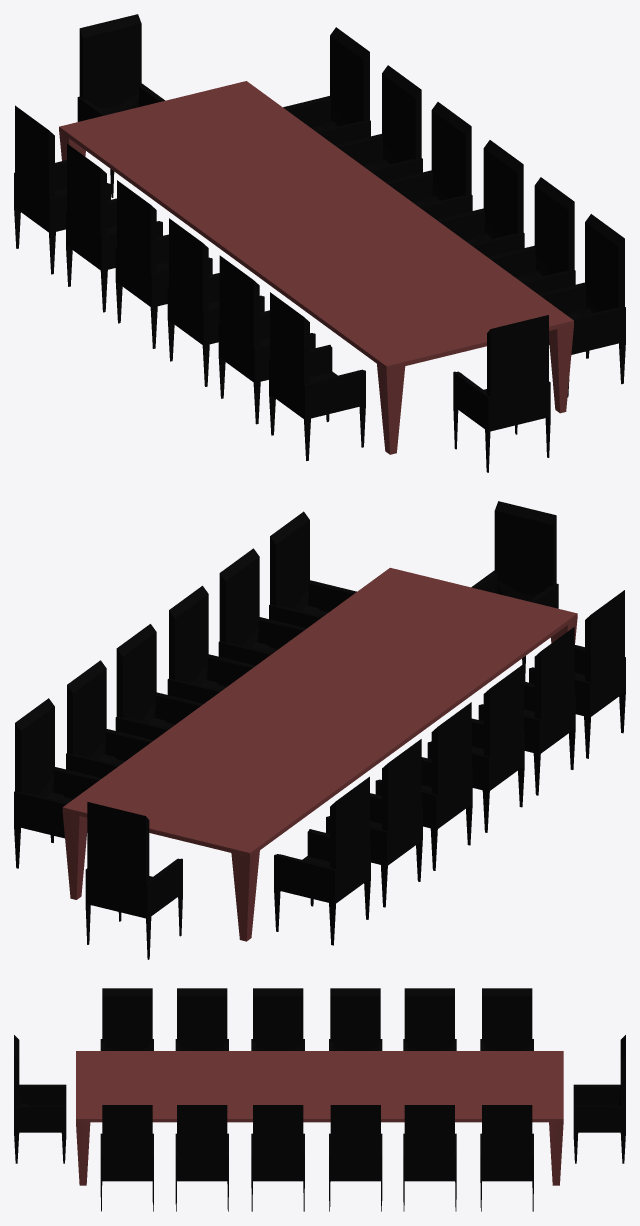
The model's file is TableWithChairs.fbx.
3 views of the same model, one above another, from view 1: azimuth 30°, elevation 25°; view 2: azimuth 150°, elevation 25°; view 3: azimuth 270°, elevation 25° (orthographic). The views are drawn at different scales.
Visible parts, largest first — view 1: pCube9, pCube12, pCube13, pCube24, pCube19, pCube16, pCube18, pCube15, pCube14, pCube17, pCube25, pCube23 (+3 smaller); view 2: pCube9, pCube19, pCube18, pCube21, pCube12, pCube15, pCube14, pCube17, pCube16, pCube13, pCube22, pCube23 (+3 smaller); view 3: pCube9, pCube20, pCube23, pCube21, pCube22, pCube25, pCube24, pCube13, pCube14, pCube15, pCube16, pCube17 (+3 smaller).
Boxes of the visible parts, left/top/right/bottom form: pCube9: left=59, top=81, right=573, bottom=454; pCube12: left=453, top=315, right=550, bottom=472; pCube13: left=269, top=292, right=365, bottom=460; pCube24: left=538, top=214, right=625, bottom=397; pCube19: left=77, top=14, right=164, bottom=197; pCube16: left=115, top=180, right=212, bottom=348; pCube18: left=14, top=105, right=110, bottom=274; pCube15: left=167, top=218, right=264, bottom=386; pCube14: left=218, top=255, right=315, bottom=424; pCube17: left=66, top=143, right=162, bottom=312; pCube25: left=384, top=102, right=472, bottom=219; pCube23: left=437, top=140, right=524, bottom=256; pCube9: left=62, top=567, right=577, bottom=941; pCube19: left=85, top=802, right=182, bottom=959; pCube18: left=274, top=776, right=370, bottom=945; pCube21: left=14, top=698, right=101, bottom=868; pCube12: left=471, top=501, right=558, bottom=681; pCube15: left=427, top=664, right=524, bottom=832; pCube14: left=478, top=627, right=575, bottom=795; pCube17: left=326, top=739, right=422, bottom=907; pCube16: left=375, top=702, right=472, bottom=870; pCube13: left=529, top=590, right=625, bottom=758; pCube22: left=218, top=548, right=306, bottom=665; pCube23: left=167, top=585, right=255, bottom=703; pCube9: left=76, top=1051, right=563, bottom=1185; pCube20: left=403, top=1105, right=456, bottom=1211; pCube23: left=251, top=1105, right=304, bottom=1211; pCube21: left=480, top=1105, right=533, bottom=1211; pCube22: left=175, top=1105, right=228, bottom=1211; pCube25: left=329, top=1105, right=382, bottom=1211; pCube24: left=100, top=1105, right=153, bottom=1211; pCube13: left=100, top=988, right=153, bottom=1050; pCube14: left=175, top=988, right=228, bottom=1050; pCube15: left=251, top=988, right=304, bottom=1050; pCube16: left=329, top=988, right=382, bottom=1050; pCube17: left=403, top=988, right=456, bottom=1050.
Bounding box in the file's own units: 7.35 × 3.16 × 16.29.
